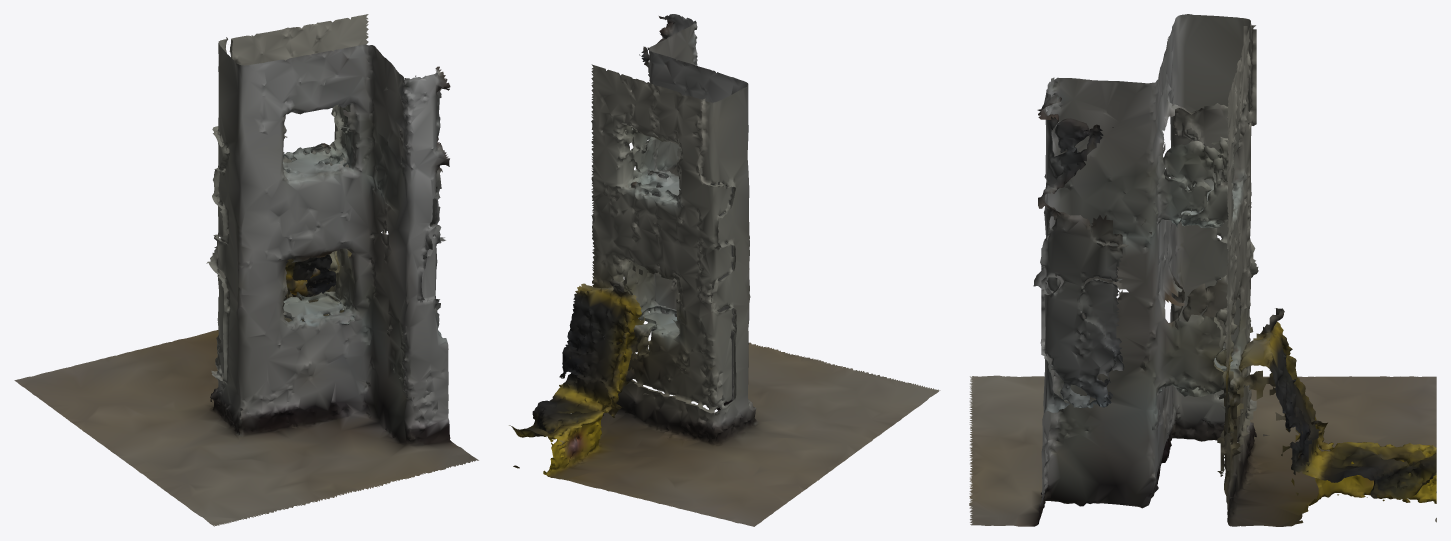
File: medium.glb
The picture shows the model from 3 angles, left to right: view 1: azimuth 30°, elevation 25°; view 2: azimuth 150°, elevation 25°; view 3: azimuth 270°, elevation 25°; orthographic projection. The views are drawn at different scales.
Bounding box in the file's own units: 0.9672 × 1.29 × 1.27.
